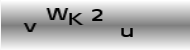2: (90, 8, 103, 22)
K: (67, 11, 85, 26)
W: (45, 6, 68, 21)
u: (119, 26, 134, 37)
v: (22, 21, 37, 33)
